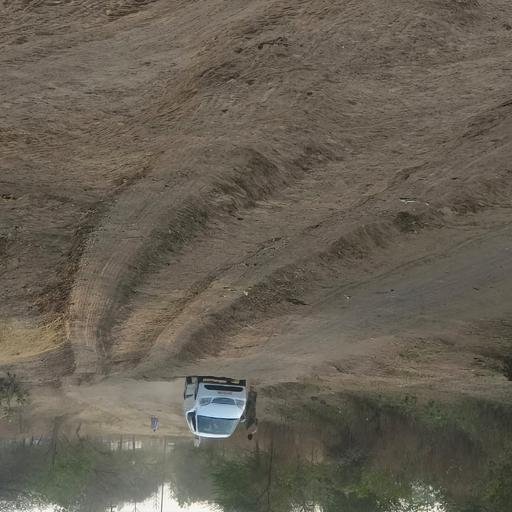vehicle_track: (67, 0, 367, 375), (116, 82, 512, 351), (216, 232, 512, 382)
